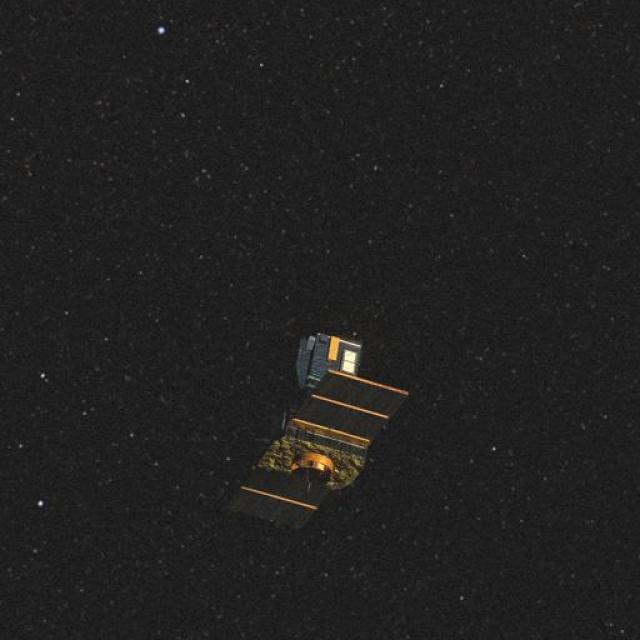soho: (215, 302, 420, 540)
